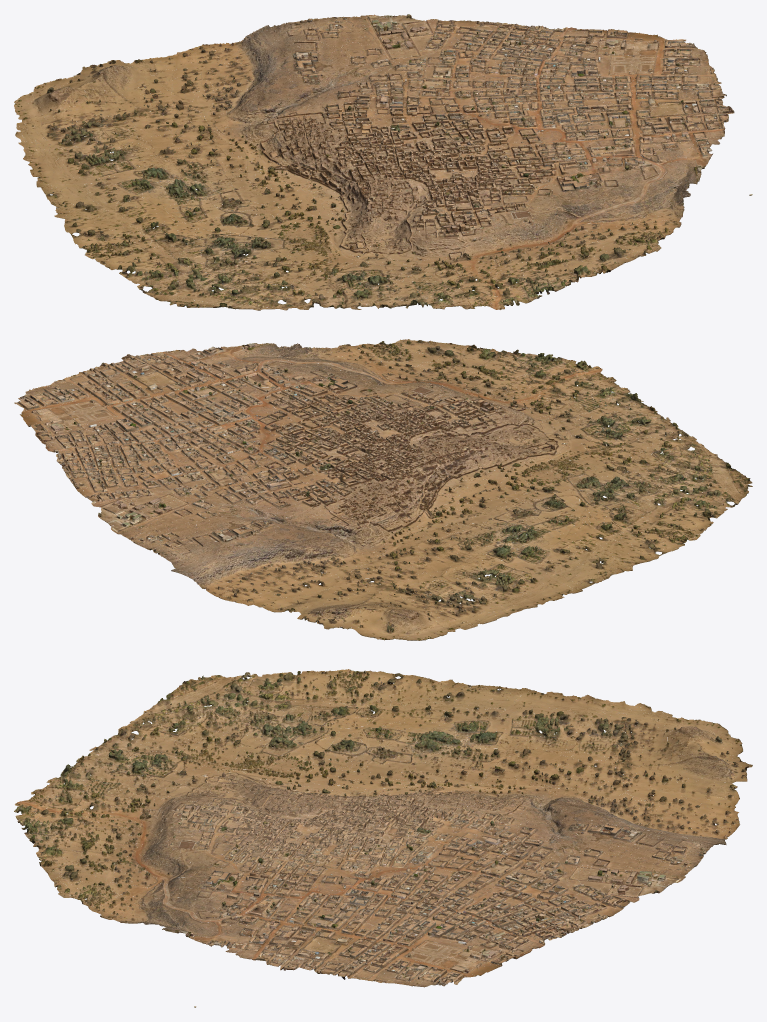
3 renders of one model, top to bottom at view 1: azimuth 30°, elevation 25°; view 2: azimuth 150°, elevation 25°; view 3: azimuth 270°, elevation 25°, orthographic. The views are drawn at different scales.
Parts seen in each view (by area): view 1: MRT_001_M1_KsourTampon_BV; view 2: MRT_001_M1_KsourTampon_BV; view 3: MRT_001_M1_KsourTampon_BV.
Boxes of the visible parts, x1,y1,x2,y2 form: MRT_001_M1_KsourTampon_BV: (14,14,752,310); MRT_001_M1_KsourTampon_BV: (14,339,752,640); MRT_001_M1_KsourTampon_BV: (14,669,752,1007).
Bounding box in the file's own units: 1269 × 124 × 1176.
4 materials, 4 textured.
